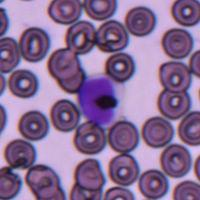L: (76, 73, 123, 127)
